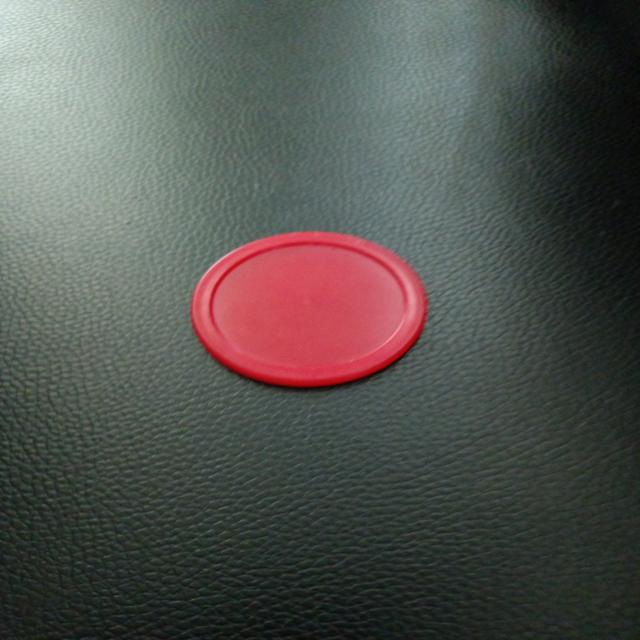chip: (186, 228, 432, 388)
